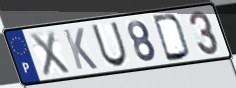3: (188, 9, 221, 56)
8: (127, 19, 158, 64)
D: (151, 13, 193, 63)
K: (61, 27, 100, 72)
U: (89, 21, 129, 69)
X: (27, 29, 73, 79)
